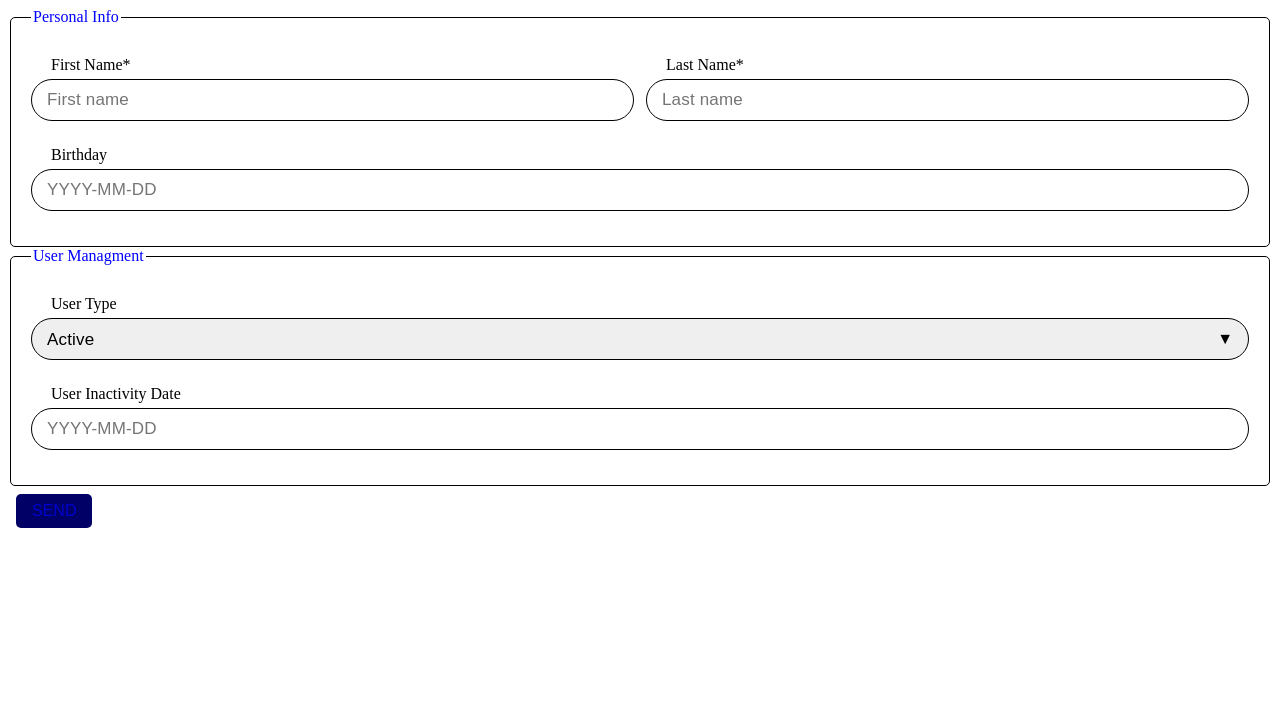
Test: Form › Submit button should be enabled on valid form
The width and height of the screenshot is (1280, 720).
Type "Adam" into the field with placeholder "First name".
click(332, 100); type("Adam")  # box [31,79,634,121]
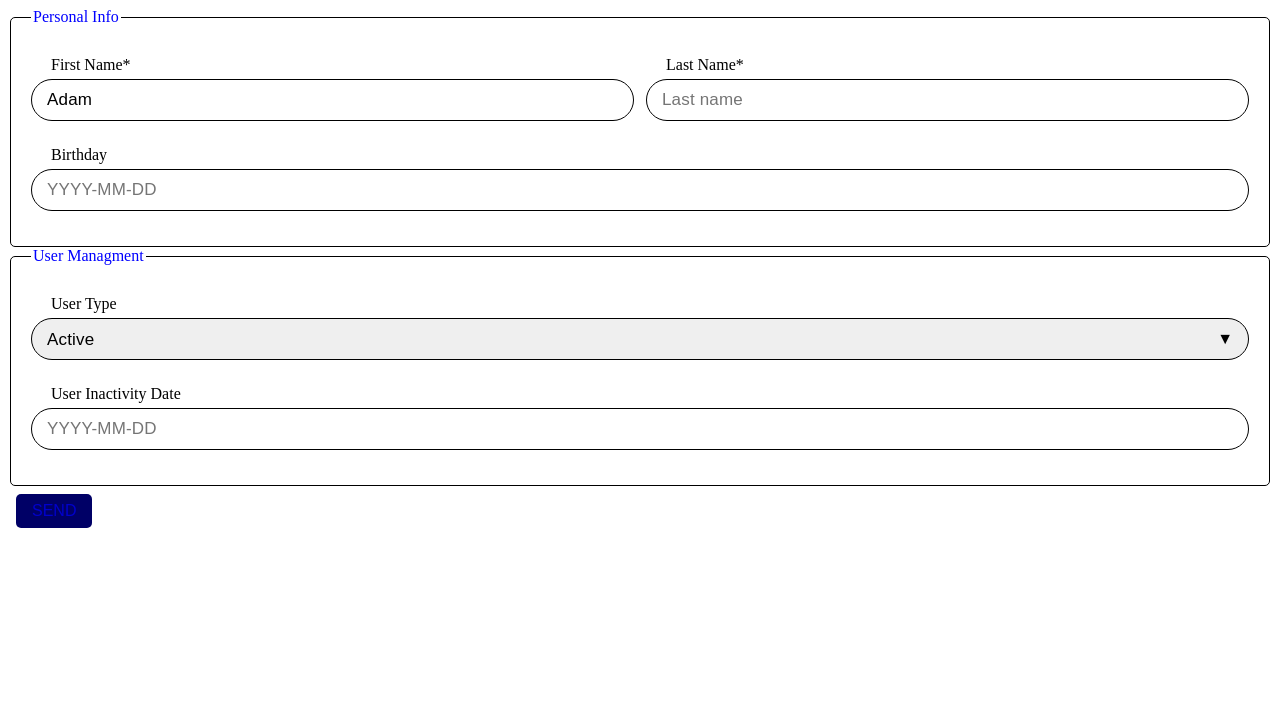
Type "Mocarski" into the field with placeholder "Last name".
click(948, 100); type("Mocarski")  # box [646,79,1249,121]
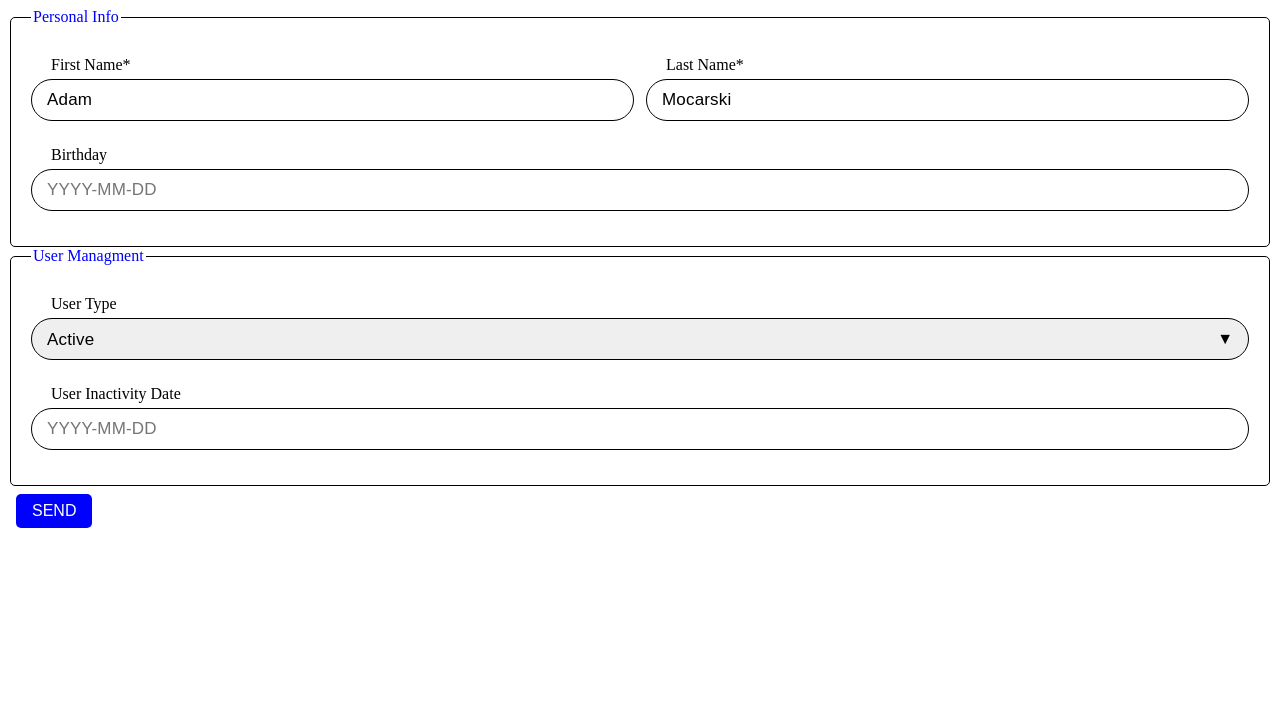
Check: the button with test id "sendButton" is enabled, box [16,494,92,528]
